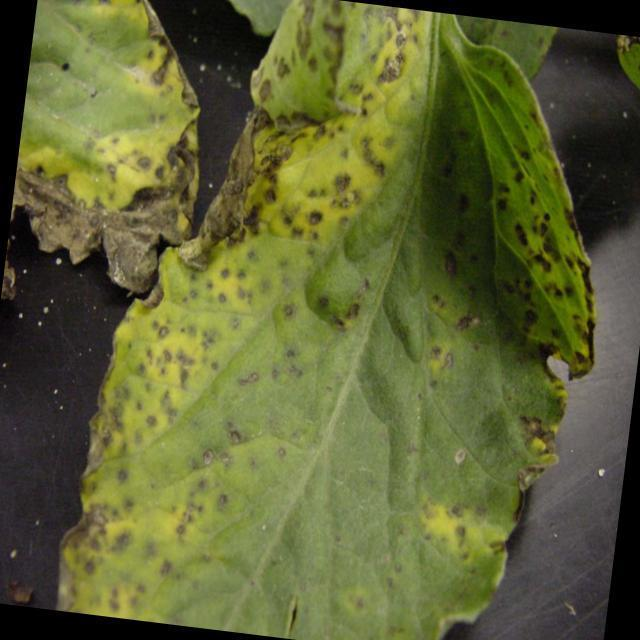Bacterial Spot: (211, 0, 415, 489), (402, 39, 612, 472), (50, 0, 188, 200)
